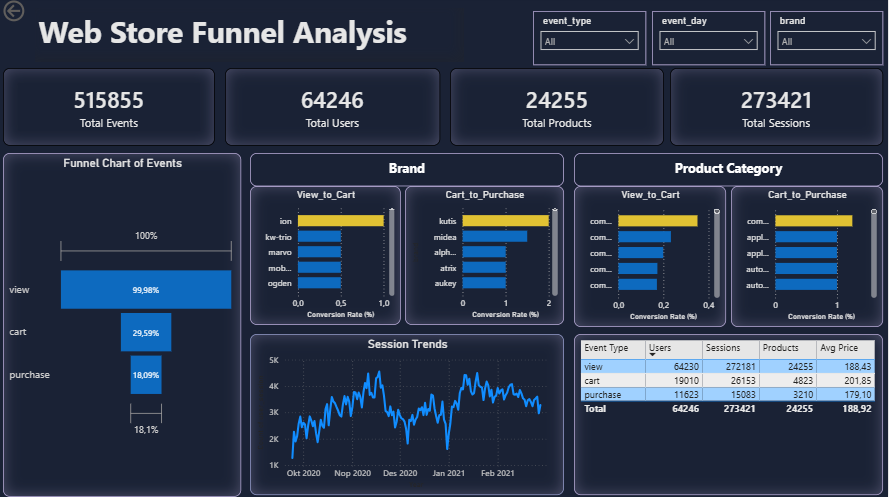

This screenshot's page, from the dashboard's own definition file:
{"tool":"powerbi","page":{"name":"Page 1","canvas":[1280,720],"ordinal":0},"visuals":[{"type":"cardVisual","fields":{"Data":["CountNonNull(Sheet1.event_type)"]},"box":[4.3,102.2,305.3,112.3],"z":1000},{"type":"lineChart","title":"Session Trends","fields":{"Y":["CountNonNull(Sheet1.user_session)"],"Category":["Sheet1.event_date.Variation.Date Hierarchy.Year","Sheet1.event_date.Variation.Date Hierarchy.Month","Sheet1.event_date.Variation.Date Hierarchy.Day"]},"box":[360,485.3,452.2,231.8],"z":2000},{"type":"actionButton","box":[0,0,100,40],"z":3000},{"type":"funnel","title":"Funnel Chart of Events","fields":{"Category":["Sheet1.event_type"],"Y":["Sum(Sheet1.user_id)"]},"box":[4.3,224.6,342.7,495.4],"z":4000},{"type":"tableEx","fields":{"Values":["fact_events.event_type","Count(fact_events.user_id)","fact_events.user_session","Count(fact_events.product_id)","Avg(fact_events.price)"]},"box":[826.6,485.3,445,231.8],"z":5000},{"type":"barChart","title":"Cart_to_Purchase","fields":{"Category":["fact_events.brand"],"Y":["fact_events.Cart_to_Purchase Conversion"]},"box":[583.2,272.2,229,200.2],"z":6000},{"type":"barChart","title":"View_to_Cart","fields":{"Category":["fact_events.brand"],"Y":["fact_events.View_to_Cart Conversion"]},"box":[360,272.2,217.4,200.2],"z":7000},{"type":"cardVisual","fields":{"Data":["Count(fact_events.product_id)"]},"box":[648,102.2,308.2,112.3],"z":8000},{"type":"cardVisual","fields":{"Data":["Count(fact_events.user_id)"]},"box":[324,102.2,309.6,112.3],"z":9000},{"type":"cardVisual","fields":{"Data":["Count(fact_events.user_session)"]},"box":[964.8,102.2,306.7,112.3],"z":10000},{"type":"slicer","fields":{"Values":["fact_events.event_type"]},"box":[767.5,20.2,162.7,77.8],"z":11000},{"type":"slicer","fields":{"Values":["fact_events.event_day"]},"box":[938.9,20.2,162.7,77.8],"z":12000},{"type":"slicer","fields":{"Values":["fact_events.brand"]},"box":[1108.8,20.2,162.7,77.8],"z":13000},{"type":"textbox","box":[50.4,15.8,617.8,77.8],"z":14000},{"type":"barChart","title":"View_to_Cart","fields":{"Category":["fact_events.category_code"],"Y":["fact_events.View_to_Cart Conversion"]},"box":[826.6,272.2,218.9,203],"z":15000},{"type":"barChart","title":"Cart_to_Purchase","fields":{"Y":["fact_events.Cart_to_Purchase Conversion"],"Category":["fact_events.category_code"]},"box":[1052.6,272.2,218.9,203],"z":16000},{"type":"textbox","box":[360,224.6,452.2,47.5],"z":16001},{"type":"textbox","box":[826.6,224.6,445,47.5],"z":16002}]}

Visuals, with their boxes in screenshot pixels (x1, y1, x2, y2), scaled from the page's 1280x720 canvas onto the 889x497 screenshot:
cardVisual - CountNonNull(Sheet1.event_type): [x1=3, y1=71, x2=215, y2=148]
"Session Trends" lineChart: [x1=250, y1=335, x2=564, y2=495]
actionButton: [x1=0, y1=0, x2=69, y2=28]
"Funnel Chart of Events" funnel: [x1=3, y1=155, x2=241, y2=496]
tableEx - fact_events.event_type x Count(fact_events.user_id): [x1=574, y1=335, x2=883, y2=495]
"Cart_to_Purchase" barChart: [x1=405, y1=188, x2=564, y2=326]
"View_to_Cart" barChart: [x1=250, y1=188, x2=401, y2=326]
cardVisual - Count(fact_events.product_id): [x1=450, y1=71, x2=664, y2=148]
cardVisual - Count(fact_events.user_id): [x1=225, y1=71, x2=440, y2=148]
cardVisual - Count(fact_events.user_session): [x1=670, y1=71, x2=883, y2=148]
slicer - fact_events.event_type: [x1=533, y1=14, x2=646, y2=68]
slicer - fact_events.event_day: [x1=652, y1=14, x2=765, y2=68]
slicer - fact_events.brand: [x1=770, y1=14, x2=883, y2=68]
textbox: [x1=35, y1=11, x2=464, y2=65]
"View_to_Cart" barChart: [x1=574, y1=188, x2=726, y2=328]
"Cart_to_Purchase" barChart: [x1=731, y1=188, x2=883, y2=328]
textbox: [x1=250, y1=155, x2=564, y2=188]
textbox: [x1=574, y1=155, x2=883, y2=188]
